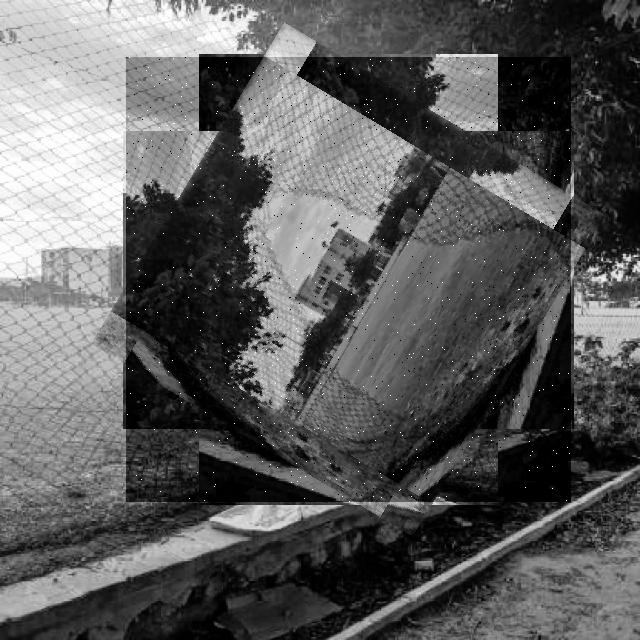anomaly-fence: (126, 57, 571, 502)
